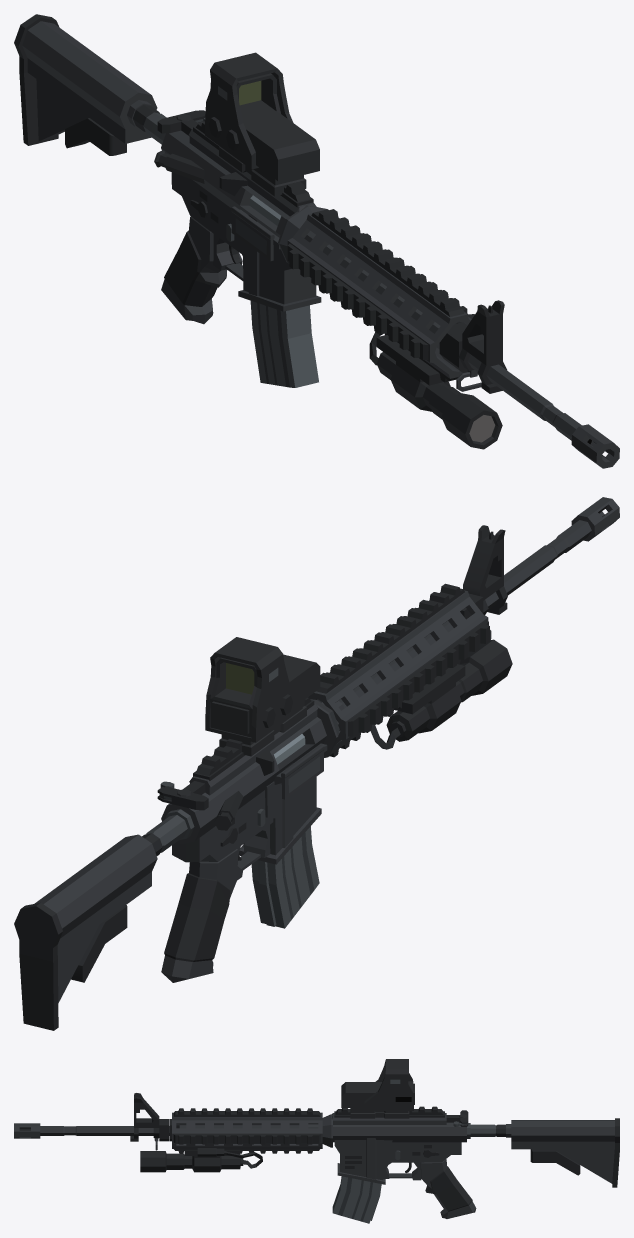
File: SM_Wep_Rifle_01.fbx
3 views of the same model, one above another, from view 1: azimuth 30°, elevation 25°; view 2: azimuth 150°, elevation 25°; view 3: azimuth 270°, elevation 25° (orthographic). The views are drawn at different scales.
Visible parts, largest first — view 1: SM_Wep_Rifle_01; view 2: SM_Wep_Rifle_01, SM_Wep_Rifle_01_Sight_Glass_01; view 3: SM_Wep_Rifle_01.
Part boxes in pixels (x1,y1,x2,y2): SM_Wep_Rifle_01: (14, 14, 619, 468); SM_Wep_Rifle_01: (14, 497, 619, 1030); SM_Wep_Rifle_01_Sight_Glass_01: (226, 663, 254, 694); SM_Wep_Rifle_01: (14, 1059, 619, 1223).
Size of the model in its own units: 9.44 by 35 by 123.
1 material, 1 textured.
